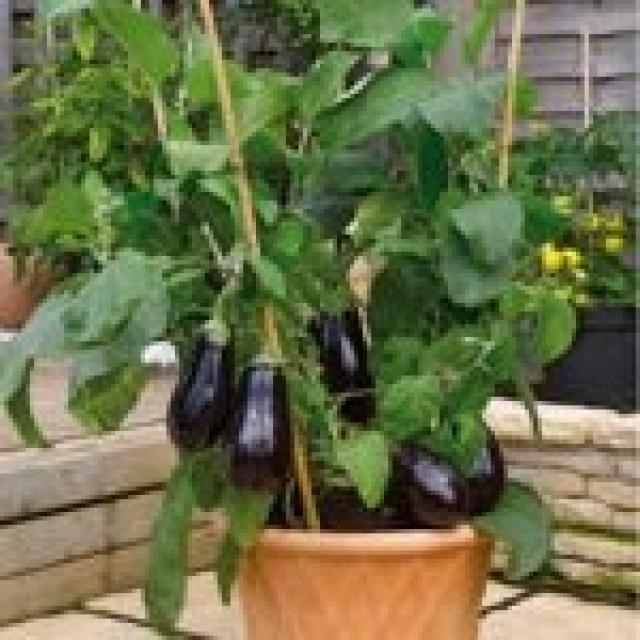brinjal: (0, 0, 636, 629)
